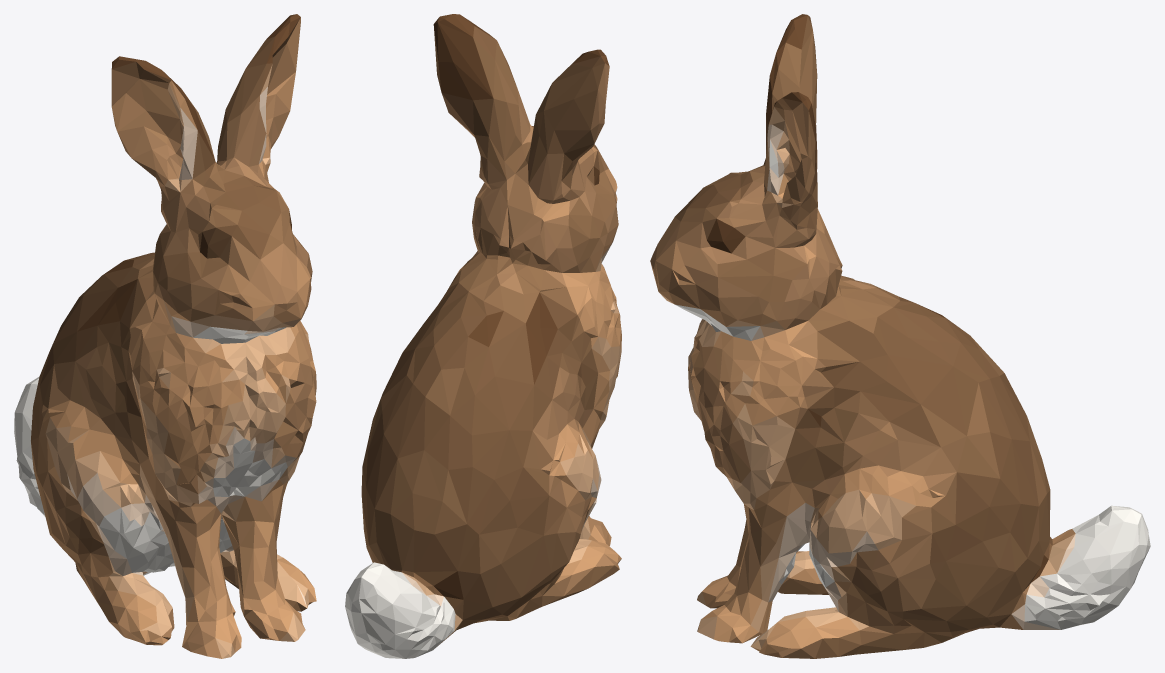
Rendered from hare.glb.
3 renders of one model, left to right at view 1: azimuth 30°, elevation 25°; view 2: azimuth 150°, elevation 25°; view 3: azimuth 270°, elevation 25°, orthographic. The views are drawn at different scales.
Parts seen in each view (by area): view 1: low-poly-rabbit; view 2: low-poly-rabbit; view 3: low-poly-rabbit.
Part boxes in pixels (bbox=[...]): low-poly-rabbit: bbox=[14, 14, 316, 658]; low-poly-rabbit: bbox=[345, 14, 621, 658]; low-poly-rabbit: bbox=[650, 14, 1150, 658].
Bounding box in the file's own units: 0.1809 × 0.4544 × 0.3654.
1 material, 1 textured.
